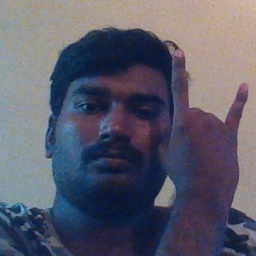V: (155, 44, 253, 198)
